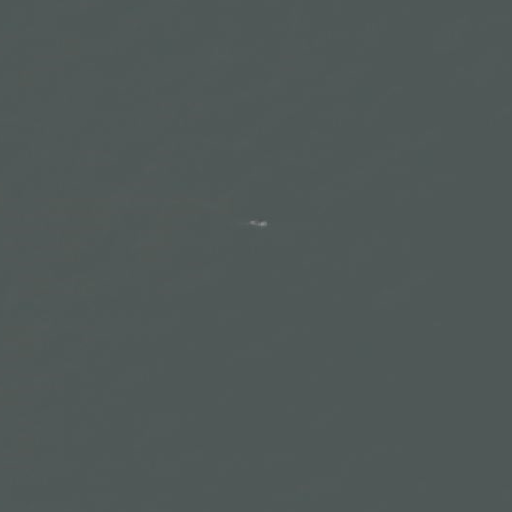ship: (245, 216, 271, 229)
